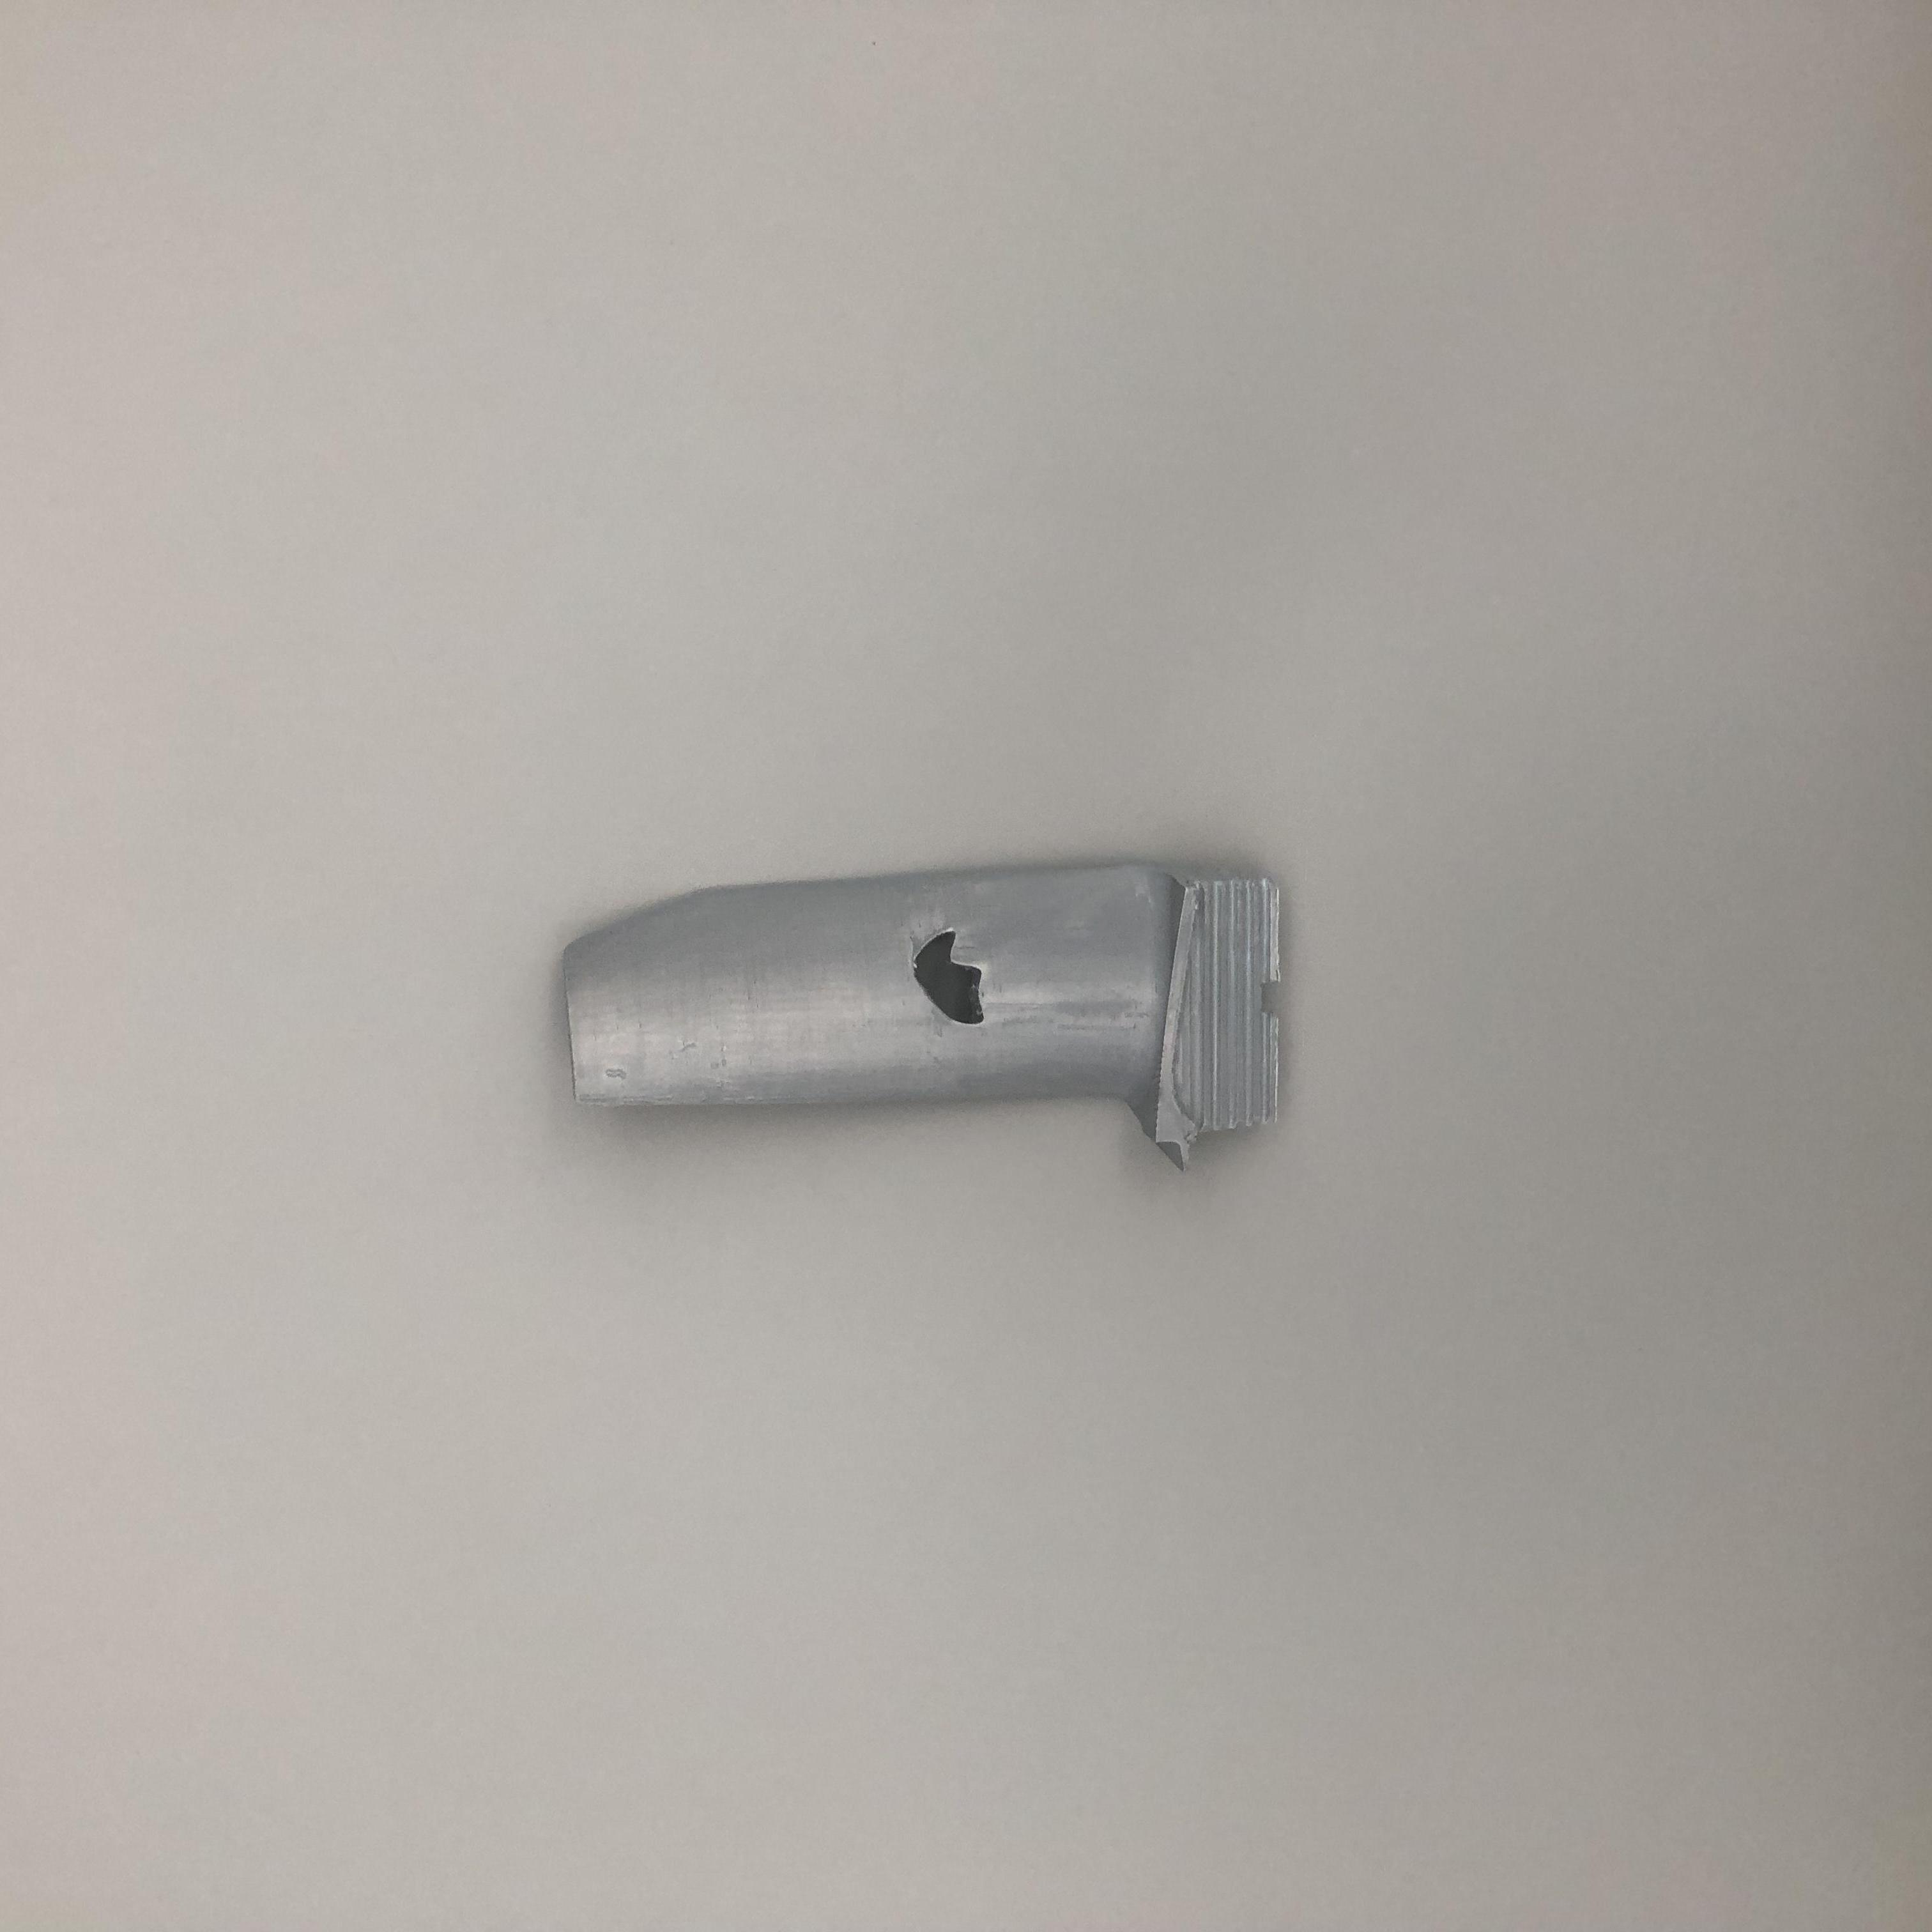breakdown: (904, 927, 994, 1035)
